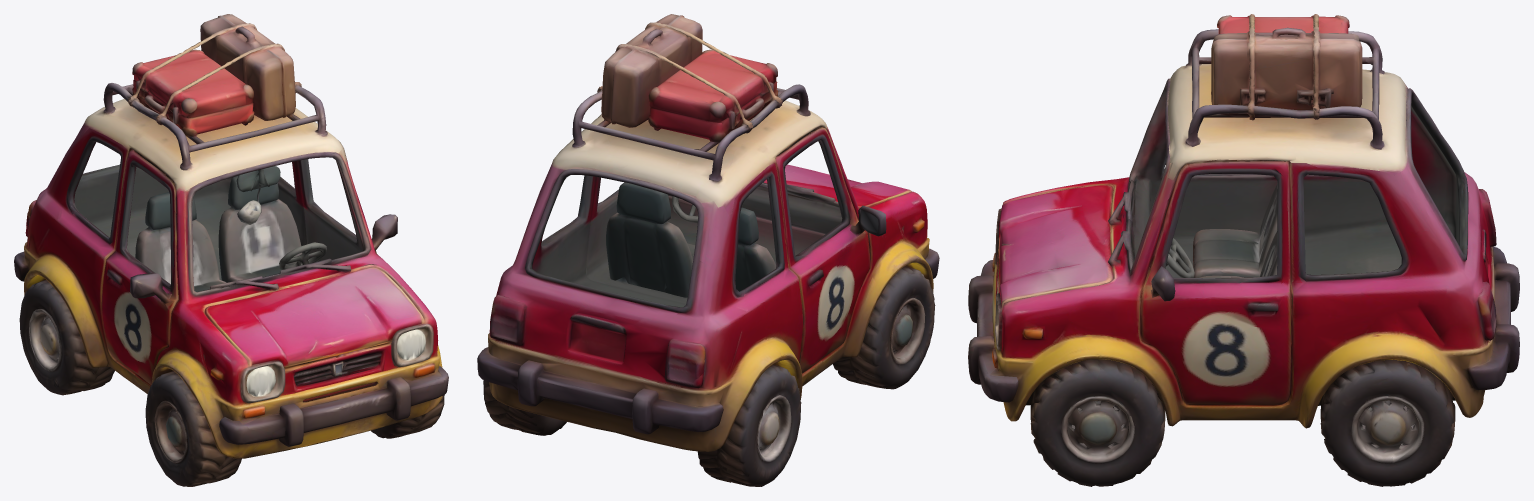
The model's file is enemy_car_red.glb.
3 renders of one model, left to right at view 1: azimuth 30°, elevation 25°; view 2: azimuth 150°, elevation 25°; view 3: azimuth 270°, elevation 25°, orthographic. The views are drawn at different scales.
Parts seen in each view (by area): view 1: tripo_part_0, tripo_part_10, tripo_part_1, tripo_part_4, tripo_part_12, tripo_part_3, tripo_part_9, tripo_part_6, tripo_part_8, tripo_part_7, tripo_part_13, tripo_part_2 (+3 smaller); view 2: tripo_part_0, tripo_part_10, tripo_part_1, tripo_part_3, tripo_part_9, tripo_part_4, tripo_part_6, tripo_part_7, tripo_part_8, tripo_part_5, tripo_part_16; view 3: tripo_part_0, tripo_part_10, tripo_part_5, tripo_part_2, tripo_part_6, tripo_part_7, tripo_part_8, tripo_part_12, tripo_part_1, tripo_part_11, tripo_part_15.
Part boxes in pixels (x1,y1,x2,y2): tripo_part_0: [14, 124, 442, 458]; tripo_part_10: [81, 99, 346, 198]; tripo_part_1: [128, 23, 275, 136]; tripo_part_4: [145, 371, 241, 486]; tripo_part_12: [219, 366, 448, 446]; tripo_part_3: [19, 279, 114, 395]; tripo_part_9: [218, 175, 302, 282]; tripo_part_6: [200, 14, 295, 120]; tripo_part_8: [135, 192, 226, 291]; tripo_part_7: [103, 82, 327, 170]; tripo_part_13: [290, 348, 386, 392]; tripo_part_2: [371, 395, 444, 438]; tripo_part_0: [477, 126, 933, 451]; tripo_part_10: [551, 100, 829, 215]; tripo_part_1: [599, 22, 781, 142]; tripo_part_3: [697, 364, 801, 486]; tripo_part_9: [606, 182, 695, 297]; tripo_part_4: [833, 266, 935, 389]; tripo_part_6: [601, 14, 702, 127]; tripo_part_7: [572, 84, 810, 180]; tripo_part_8: [735, 207, 776, 291]; tripo_part_5: [483, 380, 566, 435]; tripo_part_16: [850, 205, 886, 236]; tripo_part_0: [989, 78, 1519, 428]; tripo_part_10: [1168, 64, 1407, 180]; tripo_part_5: [1320, 359, 1455, 486]; tripo_part_2: [1030, 359, 1165, 486]; tripo_part_6: [1211, 27, 1362, 118]; tripo_part_7: [1186, 29, 1384, 149]; tripo_part_8: [1193, 184, 1277, 277]; tripo_part_12: [968, 260, 1018, 402]; tripo_part_1: [1217, 14, 1349, 120]; tripo_part_11: [1166, 238, 1194, 277]; tripo_part_15: [1151, 266, 1175, 301].
Bounding box in the file's own units: 0.6267 × 0.8059 × 0.9803.
1 material, 1 textured.
